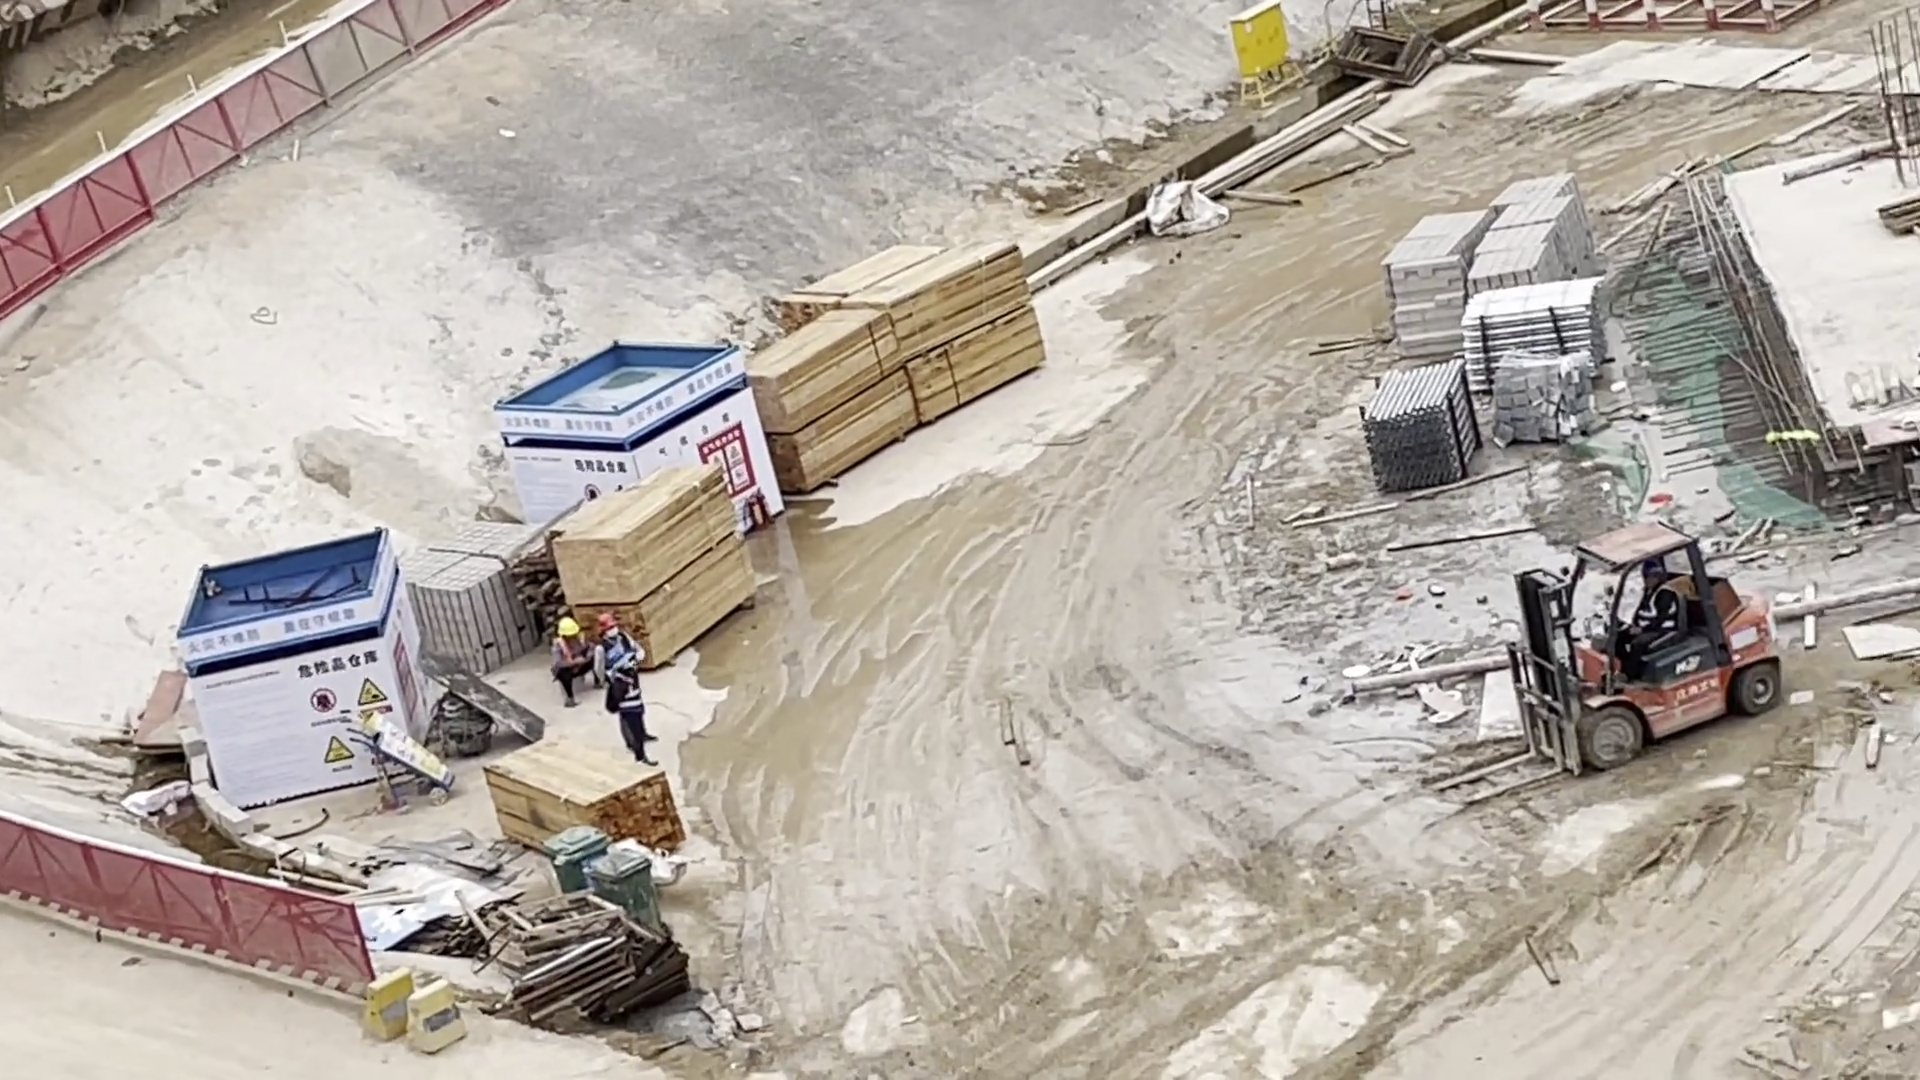brick: (1382, 215, 1486, 366), (1483, 167, 1587, 295)
ebox: (1207, 1, 1320, 107)
fence: (10, 1, 511, 296), (1, 809, 373, 1018)
helmet: (608, 645, 647, 677), (554, 615, 587, 637), (598, 613, 622, 636)
person: (1617, 563, 1686, 671), (601, 645, 661, 768), (543, 604, 596, 703), (596, 614, 641, 664)
scaffold: (1452, 291, 1617, 393), (1363, 359, 1482, 498)
slogan: (489, 330, 799, 573), (192, 541, 449, 808)
vest: (1635, 585, 1680, 634), (553, 637, 606, 672)
wood: (832, 230, 1068, 431), (563, 460, 758, 649), (487, 741, 694, 866), (741, 317, 905, 471)
